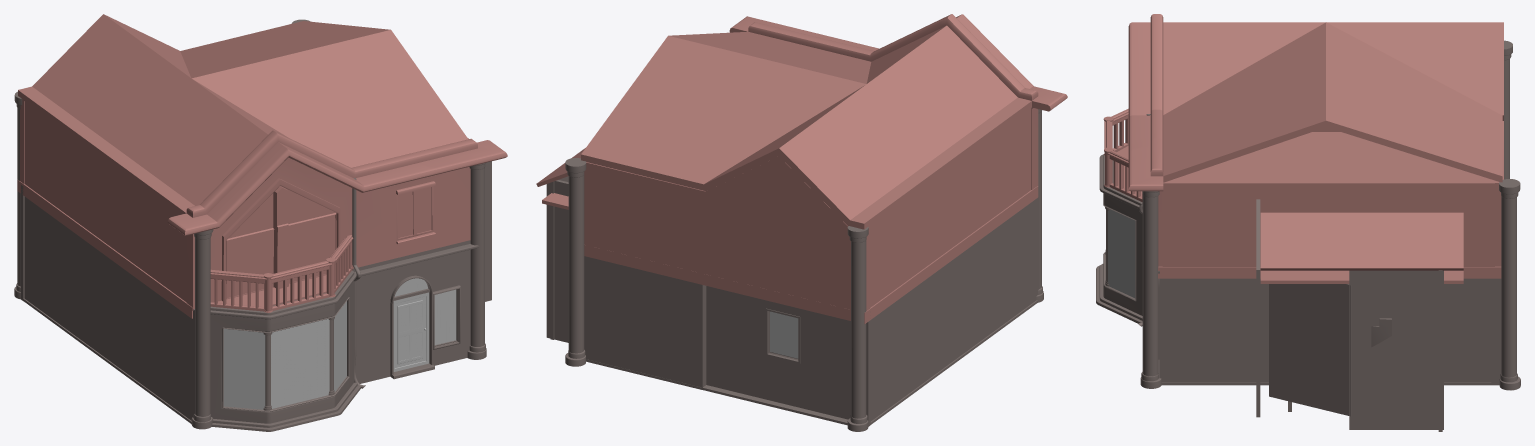
Rendered from markisawesomeagain.fbx.
3 renders of one model, left to right at view 1: azimuth 30°, elevation 25°; view 2: azimuth 150°, elevation 25°; view 3: azimuth 270°, elevation 25°, orthographic.
Visible parts, largest first — view 1: Walls, windows1, Door1; view 2: Walls, windows1; view 3: Walls, windows1.
Part boxes in pixels (box(x1,y1,x2,y2)): Walls: box(14, 14, 507, 431); windows1: box(223, 278, 456, 409); Door1: box(393, 292, 429, 371); Walls: box(536, 14, 1067, 431); windows1: box(770, 311, 798, 358); Walls: box(1096, 14, 1520, 431); windows1: box(1108, 209, 1135, 298).
Bounding box in the file's own units: 118 × 86.93 × 116.
